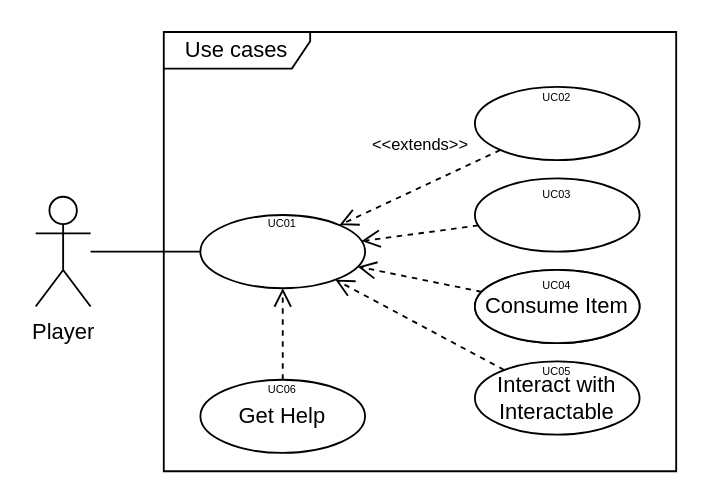
Some shapes in this 708 by 503 pixel diagram are drawn without their labels. The shapes that lost their labels are listed below. From the top down, each one's box as (x1, y1, x2, y2) in pixels, then its label:
(473, 85, 640, 160): Move Player
(473, 177, 640, 252): Pick up Item
(199, 213, 365, 288): Enter Command
